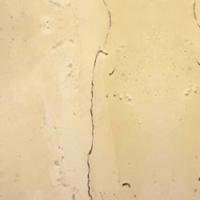crack: (65, 5, 131, 199)
